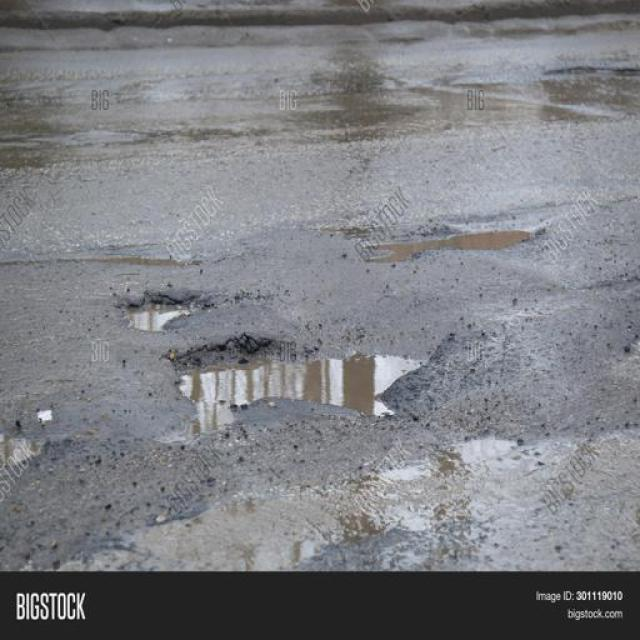puddle: (170, 328, 412, 469), (371, 225, 542, 275)
